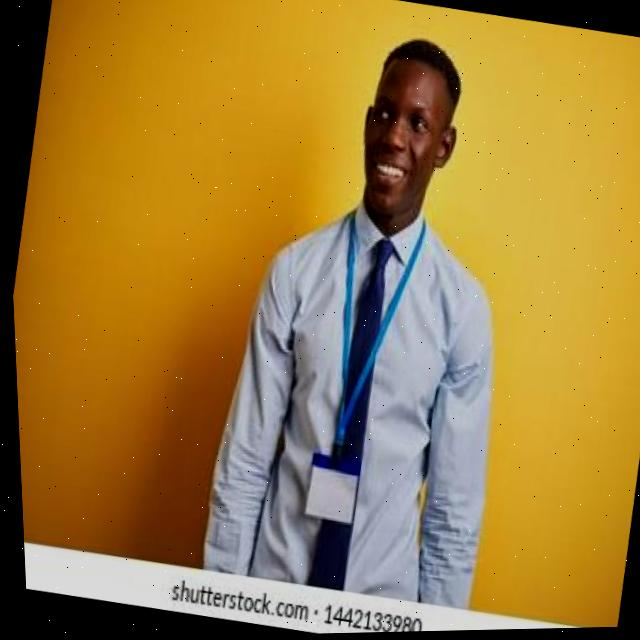id_card: (282, 211, 425, 539)
